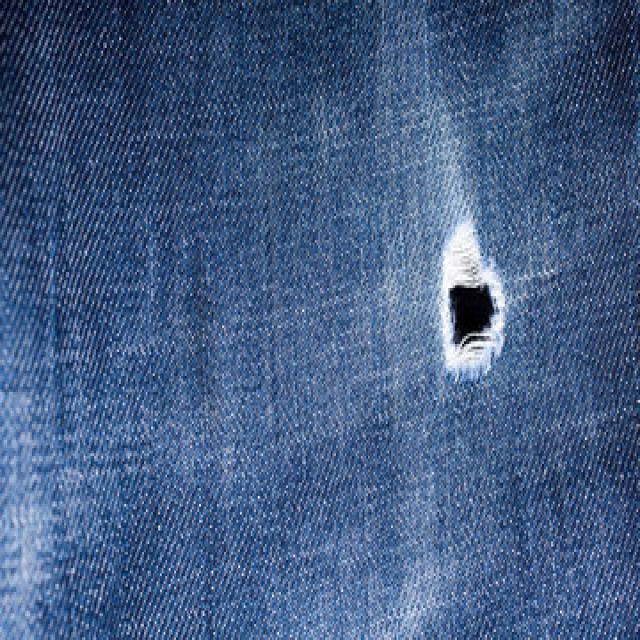Hole: (439, 218, 506, 380)
